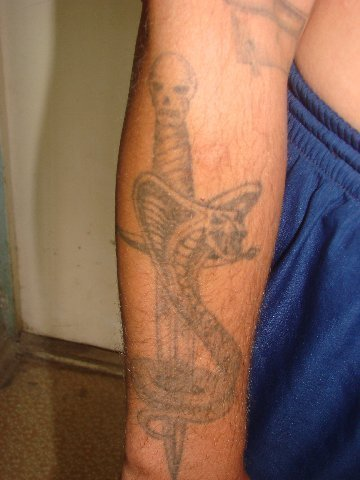tatu7_zmeya: (120, 163, 257, 451)
